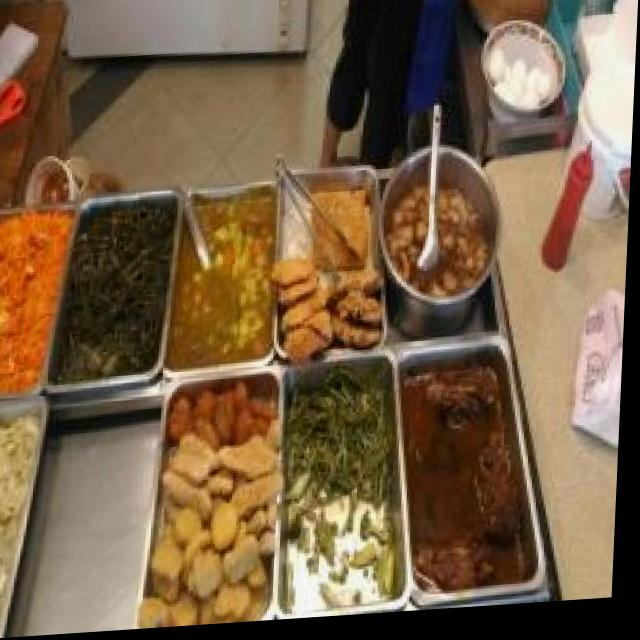carrot_eggs: (0, 211, 70, 395)
chicken_nuggets: (156, 526, 279, 631)
chinese_cabbage: (0, 419, 35, 540)
curry: (177, 185, 283, 373)
water_spinach: (290, 381, 397, 497)
